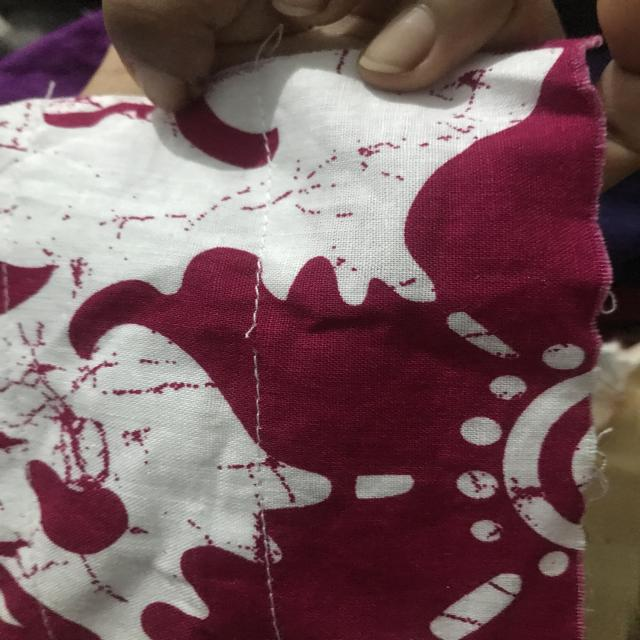broken: (222, 316, 276, 363)
good: (246, 376, 280, 420)
